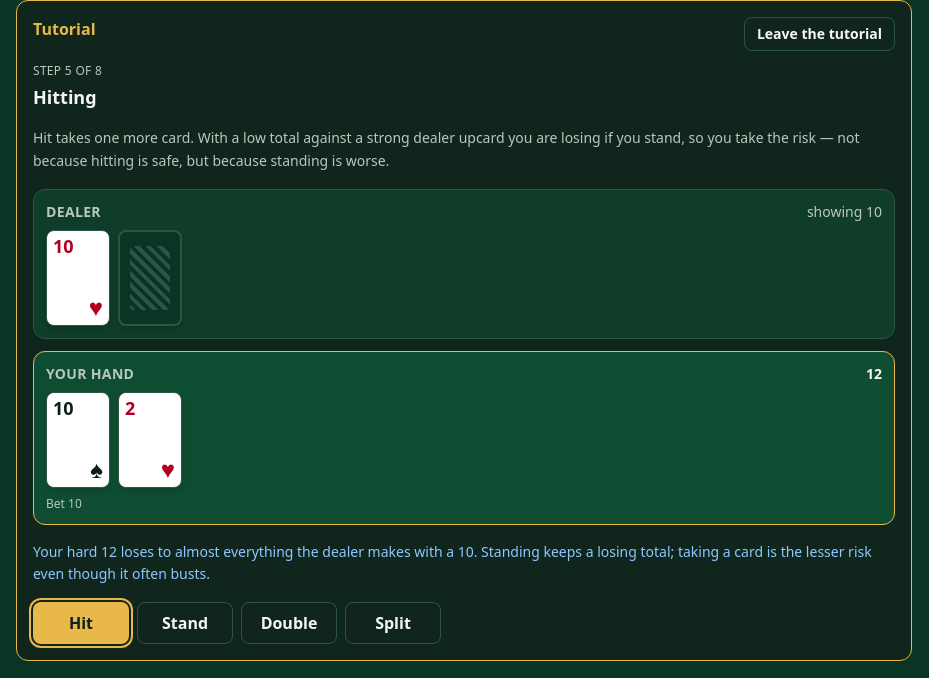
Test: LessonStep (FR-047) › advances when the taught action is taken
Click the button "Hit" at (81, 623), box [33, 602, 129, 644]
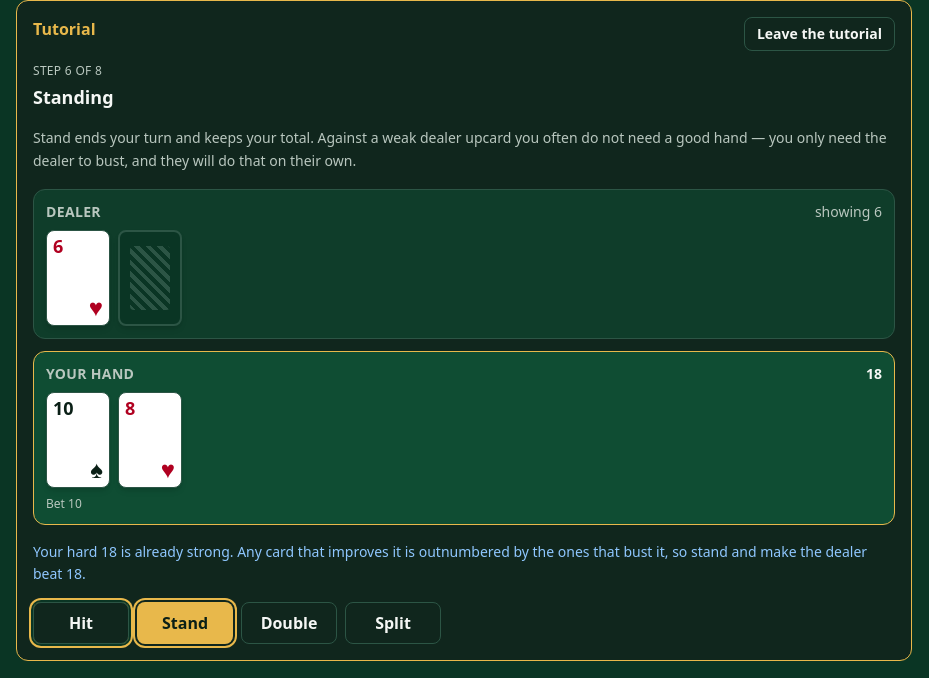
Result: the heading with test id "lesson-title" reads "Standing" at [33, 85, 114, 109]
